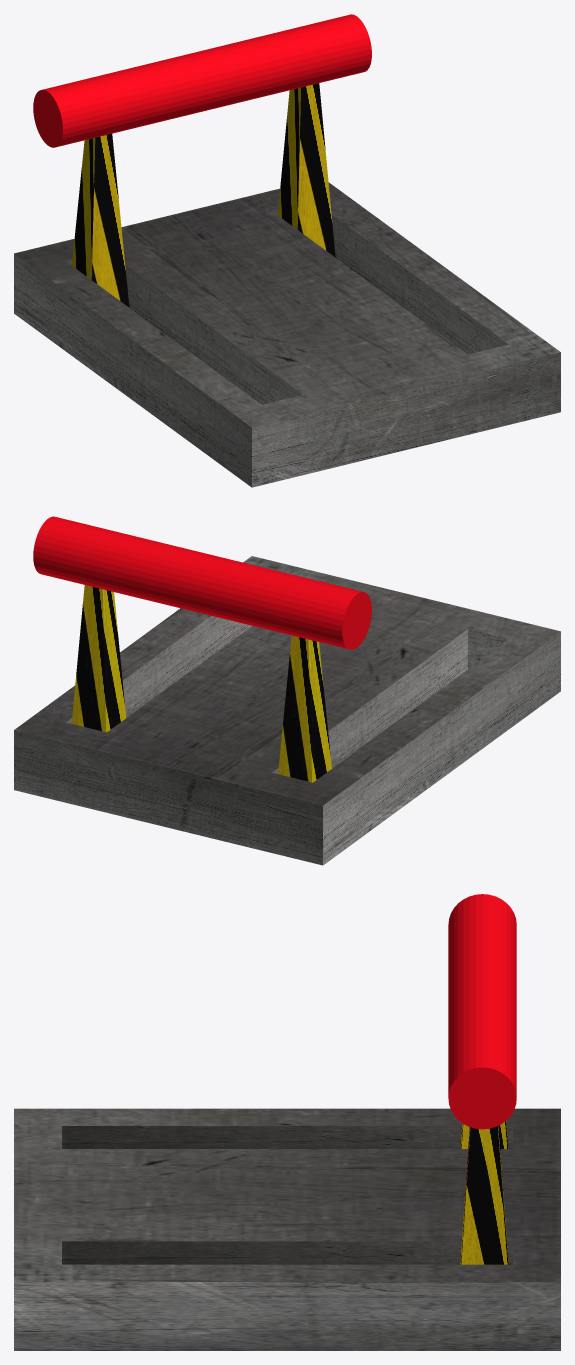
Rendered from Lever.fbx.
The picture shows the model from 3 angles, top to bottom: view 1: azimuth 30°, elevation 25°; view 2: azimuth 150°, elevation 25°; view 3: azimuth 270°, elevation 25°; orthographic projection. The views are drawn at different scales.
Parts seen in each view (by area): view 1: Cube, MainHandle; view 2: Cube, MainHandle; view 3: Cube, MainHandle.
Part boxes in pixels (<box>): Cube: <box>14,182,560,487</box>; MainHandle: <box>33,14,371,307</box>; Cube: <box>14,556,560,865</box>; MainHandle: <box>33,516,371,782</box>; Cube: <box>14,1108,560,1350</box>; MainHandle: <box>448,894,516,1264</box>.
Bounding box in the file's own units: 60 × 45.75 × 80.
